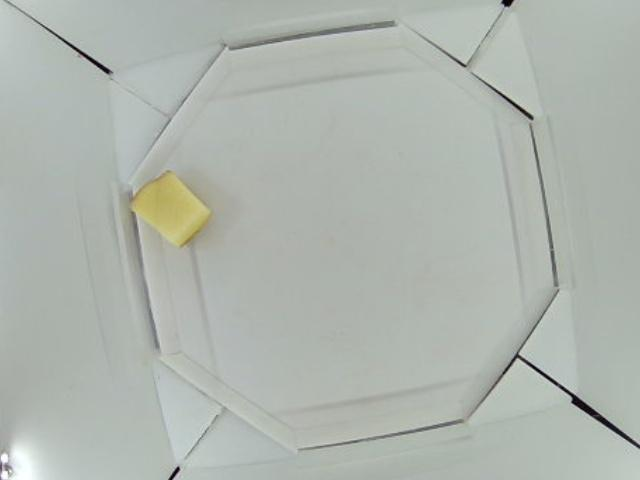Potato: (132, 174, 212, 248)
